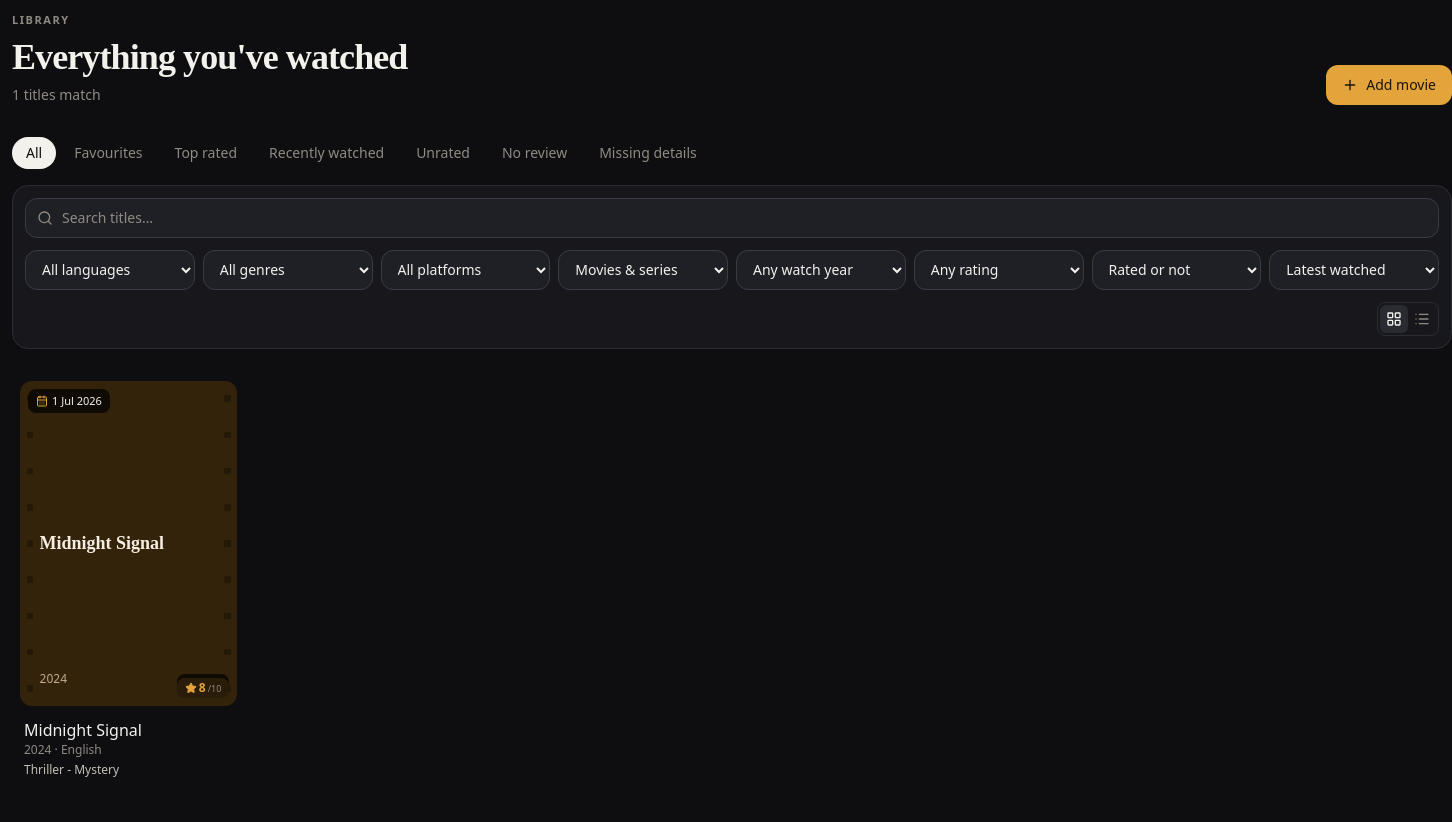
Scenario: LibraryPage › switches between grid and list layouts
Check: the link with aria-label "Midnight Signal (2024), watched 1 Jul 2026" is shown, box [12,372,245,786]
Click the button named "List view" at coordinates (1422, 318), box [1408,304,1436,332]
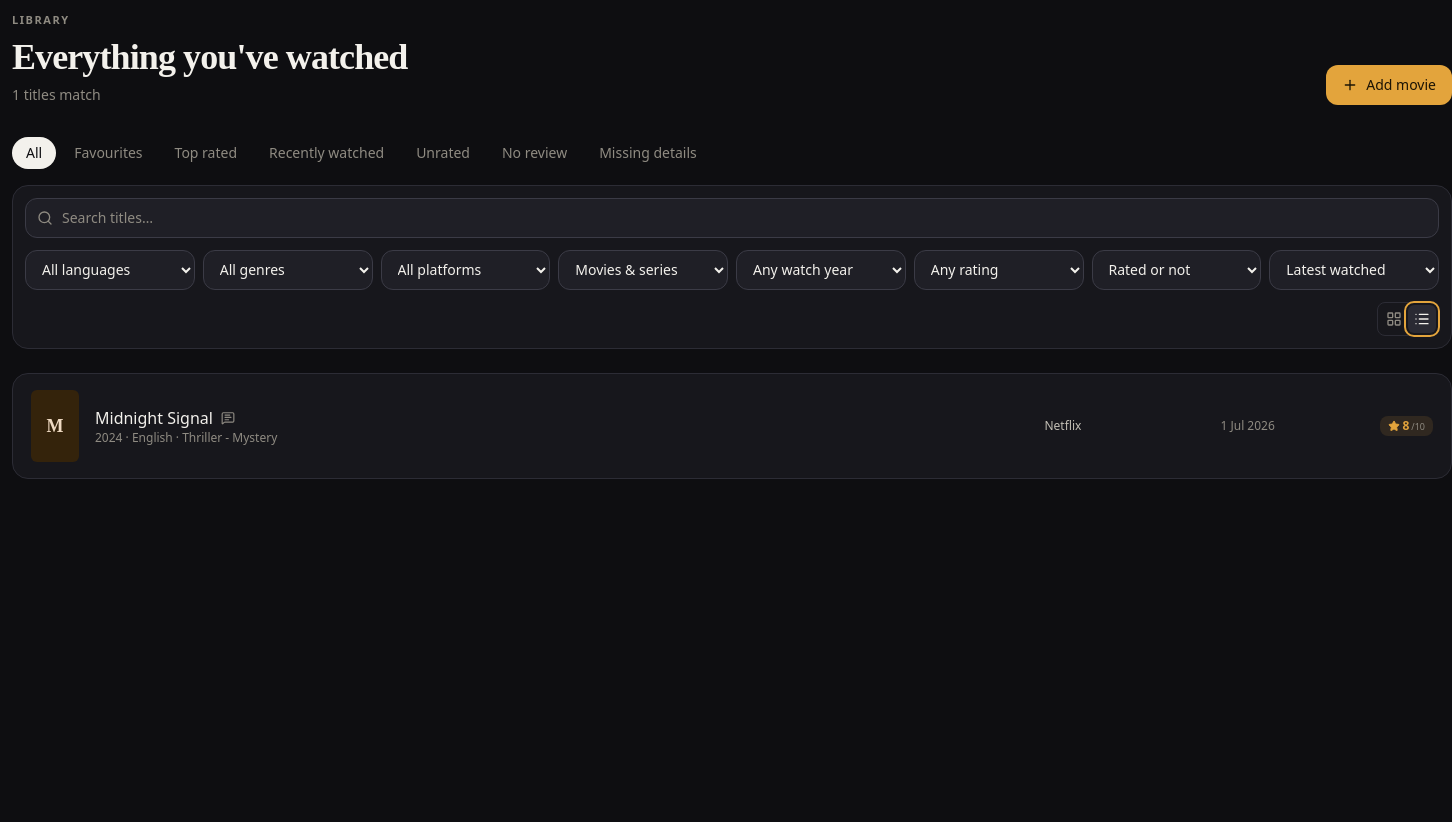
Check: the text "Netflix" is shown, box [1044,416,1081,434]
